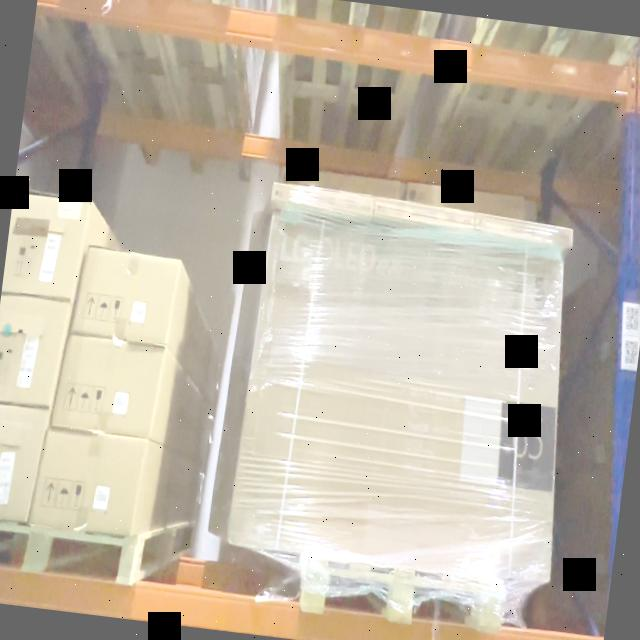box: (231, 215, 562, 572), (38, 433, 140, 528), (59, 343, 157, 432), (80, 252, 173, 344), (374, 192, 476, 228), (273, 179, 373, 213), (482, 210, 574, 242)
